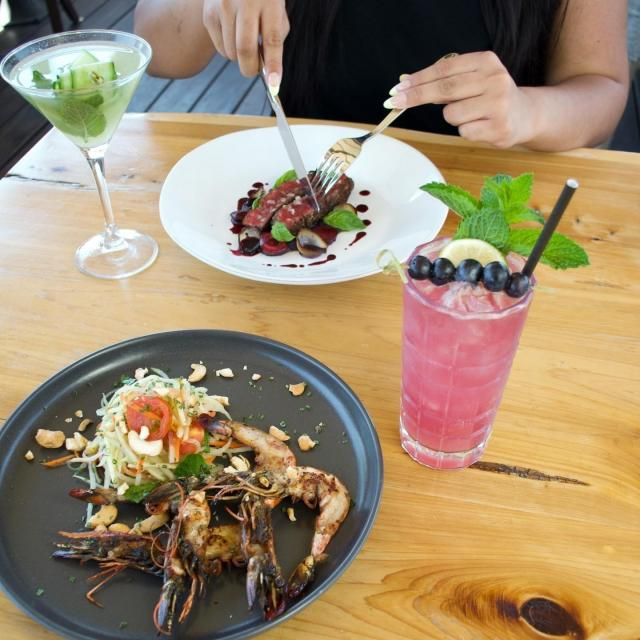glass-normal: (396, 227, 538, 477)
glass-wine: (0, 23, 161, 279)
